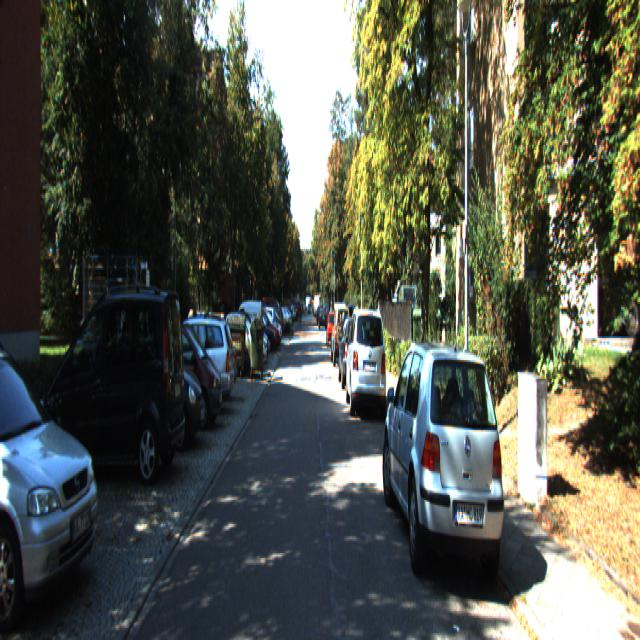Car: (378, 328, 509, 606), (0, 317, 109, 628), (41, 272, 188, 484), (101, 316, 206, 456), (143, 311, 235, 418), (345, 306, 388, 422), (227, 300, 263, 366), (337, 315, 368, 388), (332, 306, 352, 368)
